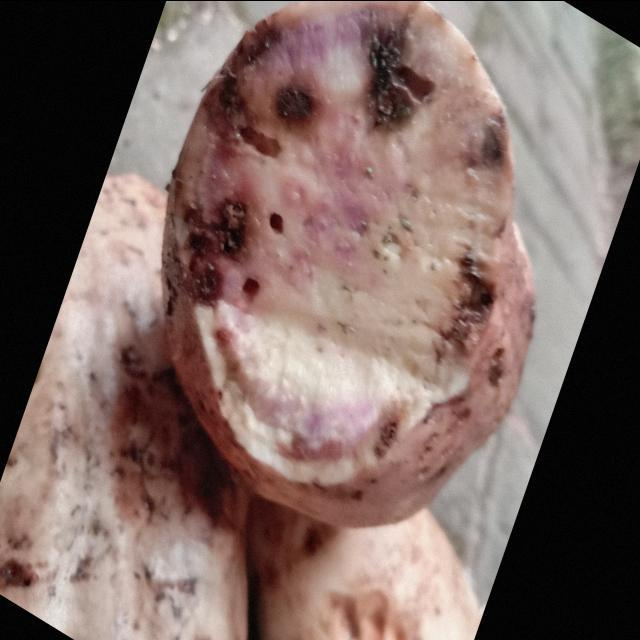Sick Sweet Potato_Tuber Rot: (162, 2, 535, 525)
